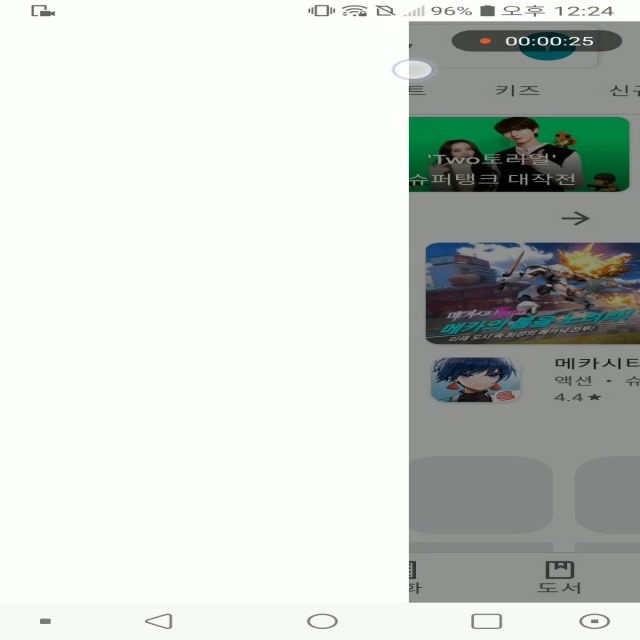Cursor: (392, 59, 437, 81)
